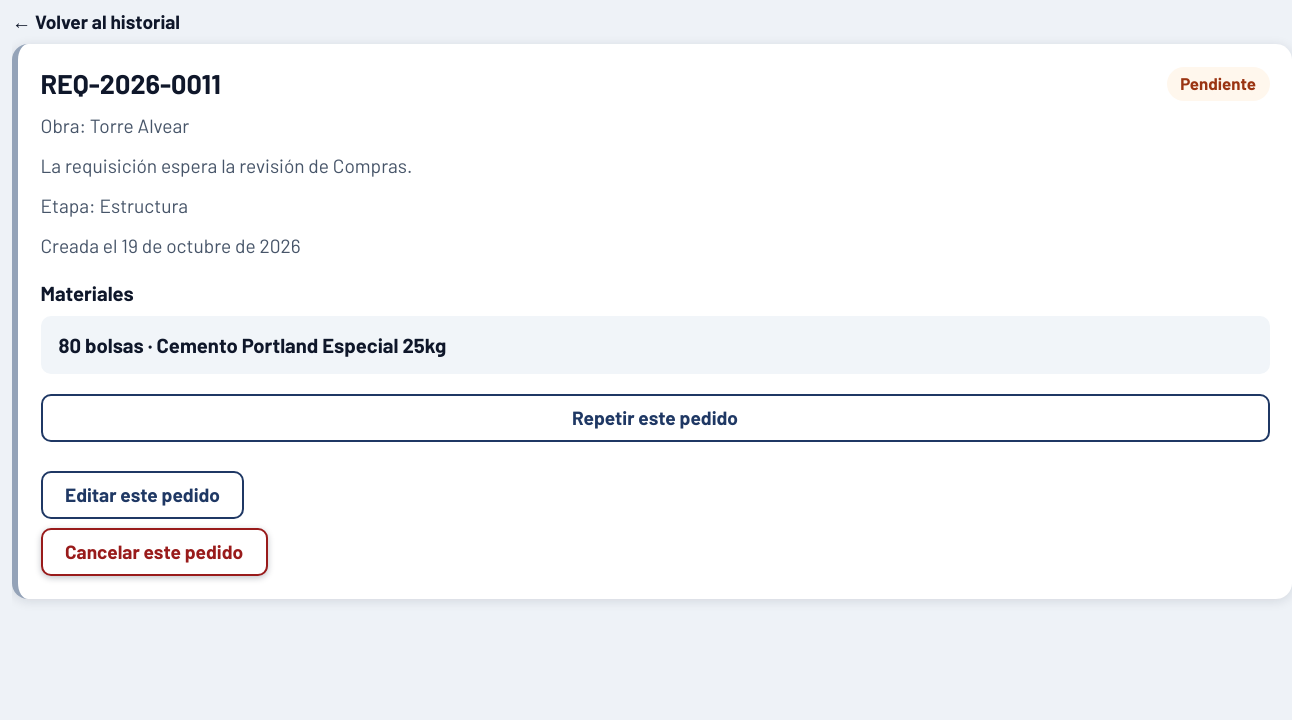
DetalleRequisicionPage › cancelar un pedido pendiente pide confirmación y lo deja Cancelado
Click the button "Cancelar este pedido" at [154, 552], box [40, 528, 268, 576]
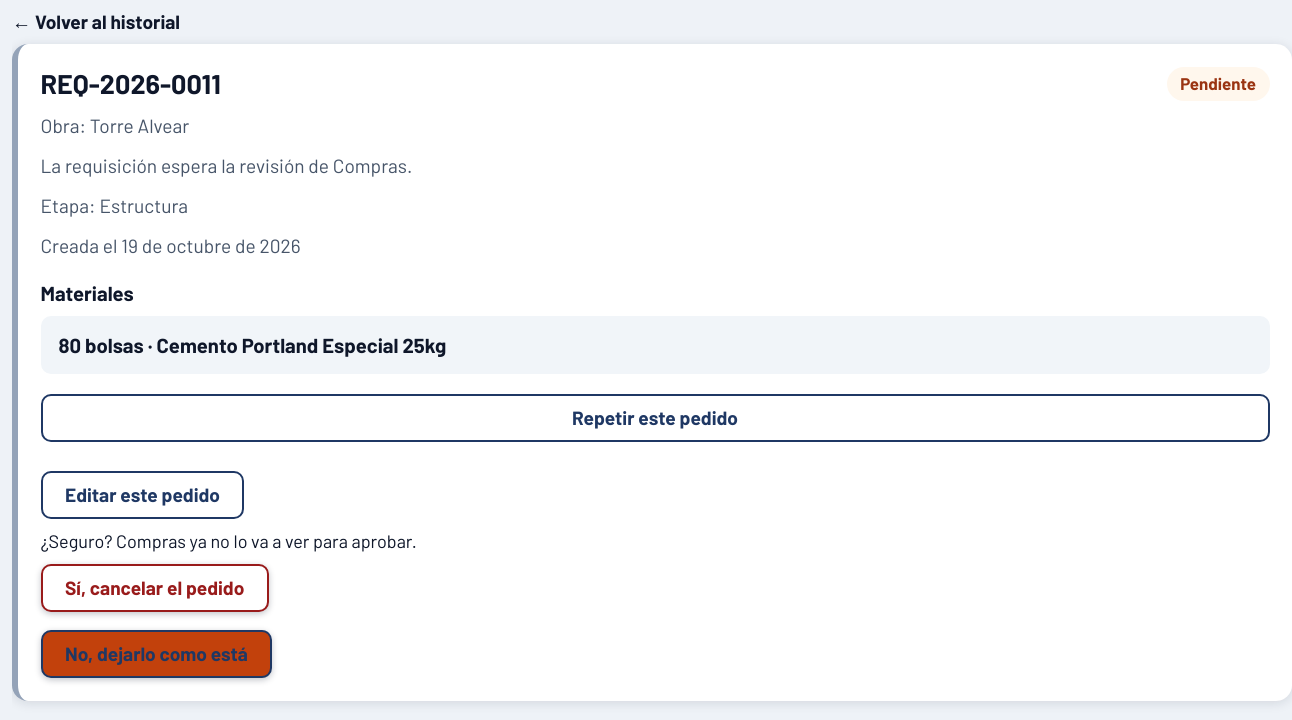
Now the element named "Confirmar cancelación" is shown, box [40, 528, 417, 678]
Click the button "Sí, cancelar el pedido" at [155, 588], box [40, 564, 269, 612]
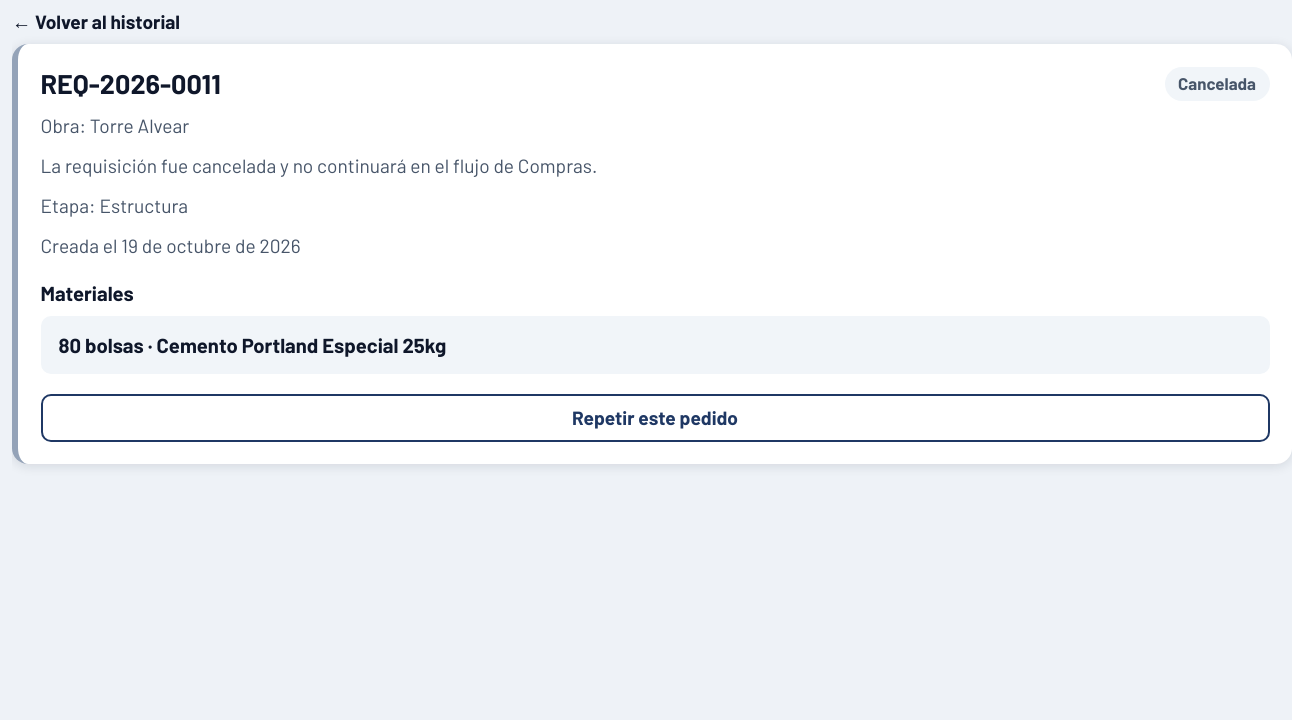
Expected: the button "Cancelar este pedido" is not shown
Now the text "Cancelada" is shown, box [1165, 66, 1270, 101]
Now the link "Editar este pedido" is gone
